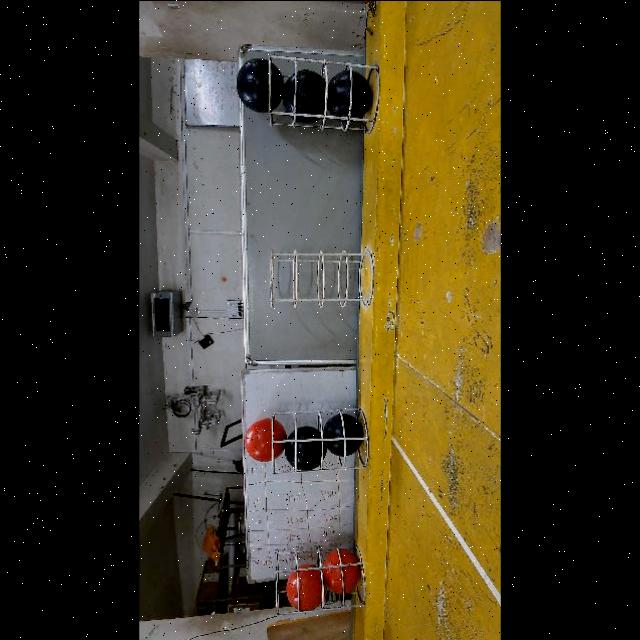P: (237, 58, 284, 112), (328, 69, 373, 117), (283, 68, 327, 114), (284, 425, 327, 470), (323, 413, 365, 455)
R: (245, 416, 287, 462), (323, 548, 361, 594), (287, 564, 323, 610)
S: (268, 54, 384, 130), (270, 544, 374, 616), (272, 252, 378, 316), (269, 411, 371, 474)
